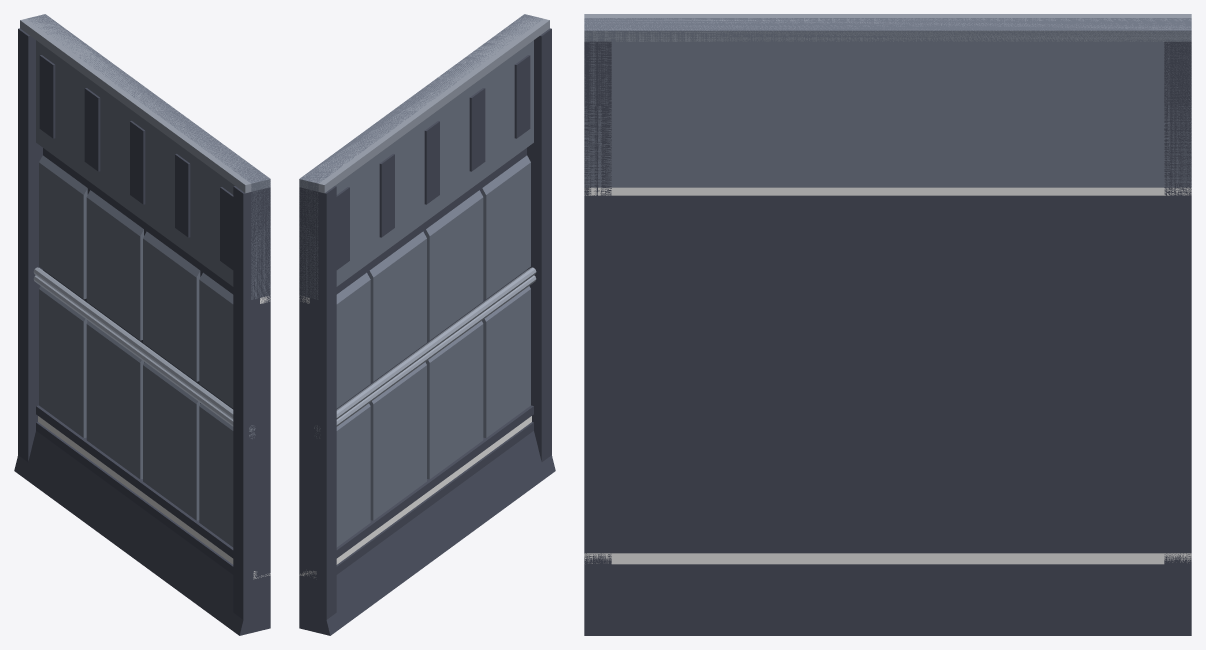
The model's file is Race_trenchwall.fbx.
3 renders of one model, left to right at view 1: azimuth 30°, elevation 25°; view 2: azimuth 150°, elevation 25°; view 3: azimuth 270°, elevation 25°, orthographic. The views are drawn at different scales.
Parts seen in each view (by area): view 1: Race_trenchwall; view 2: Race_trenchwall; view 3: Race_trenchwall.
Part boxes in pixels (box(x1,y1,x2,y2)): Race_trenchwall: box(14, 14, 270, 635); Race_trenchwall: box(299, 14, 555, 635); Race_trenchwall: box(584, 14, 1191, 635).
Size of the model in its own units: 1.6 by 22 by 20.
